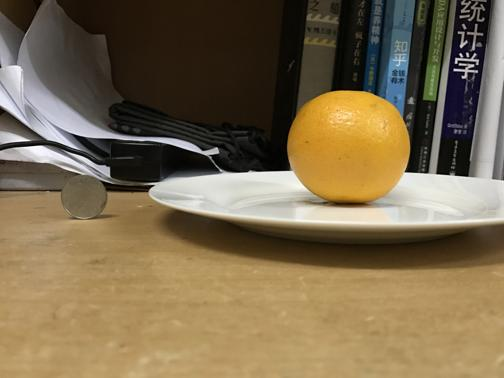coin: (60, 174, 108, 221)
orange: (285, 89, 409, 202)
